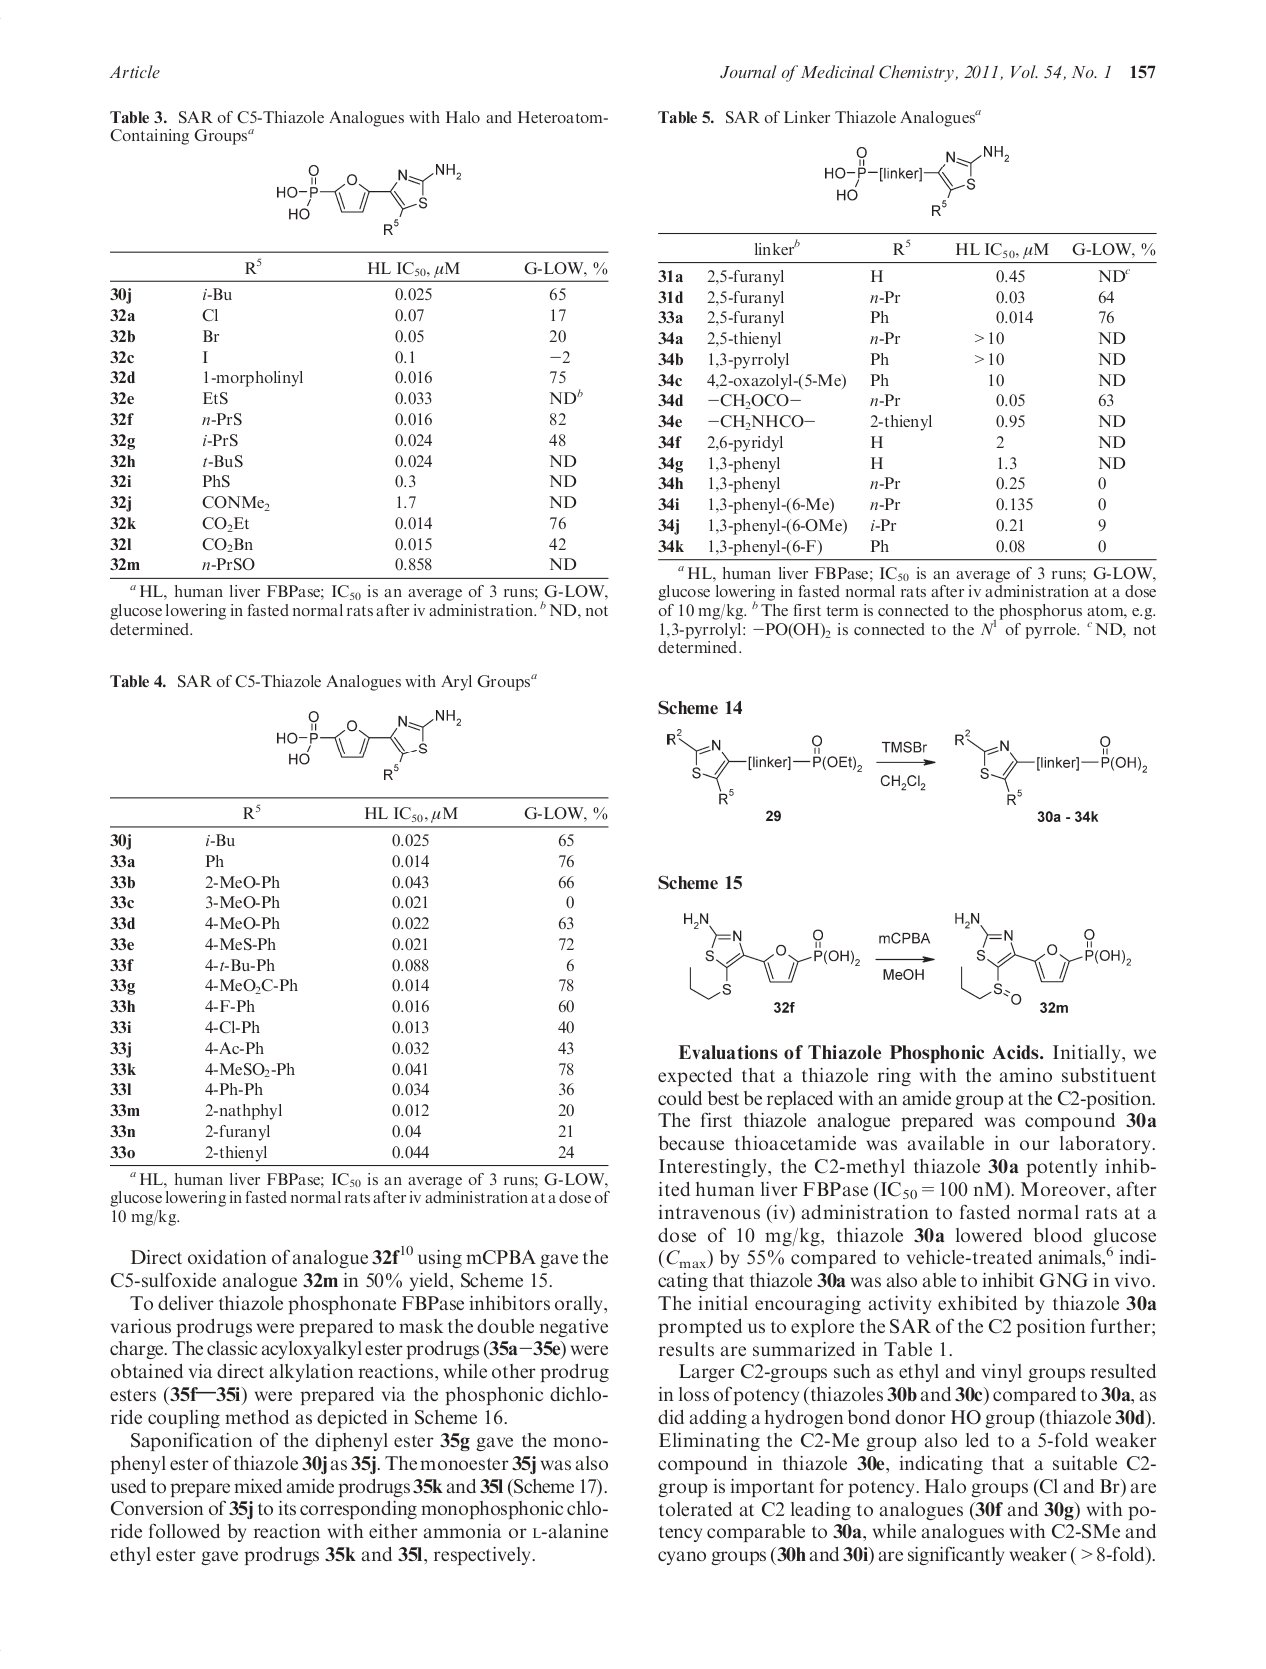exist_molecular: (952, 907, 1134, 1005), (680, 910, 862, 1001), (952, 726, 1152, 807), (664, 726, 864, 806), (273, 161, 467, 237), (822, 144, 1013, 219), (274, 707, 461, 785)
